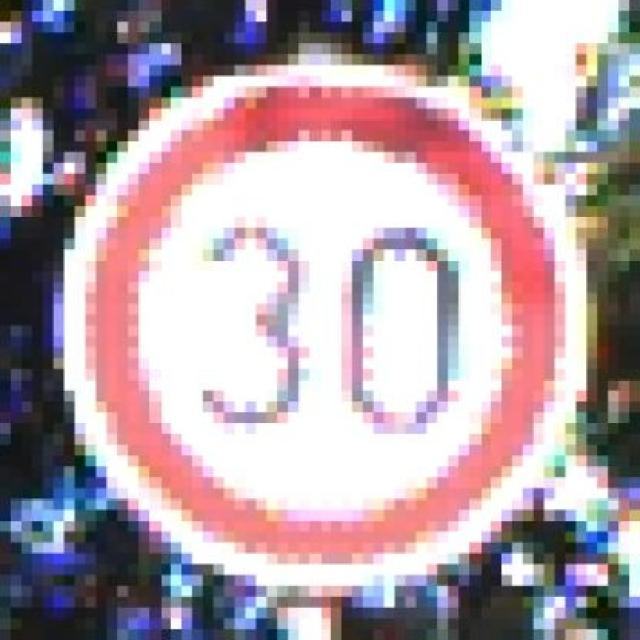forb_speed_over_30: (69, 72, 577, 580)
